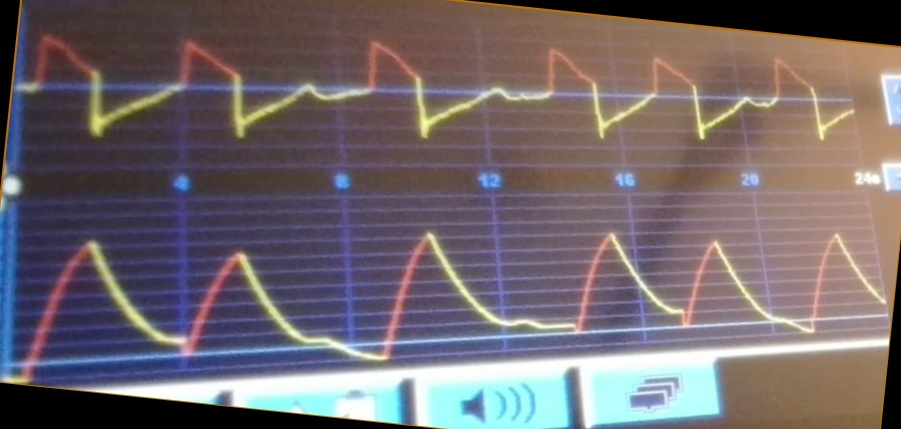Ineffective_effort Flow: (24, 30, 853, 147)
Ineffective_effort Volume: (15, 225, 886, 378)
